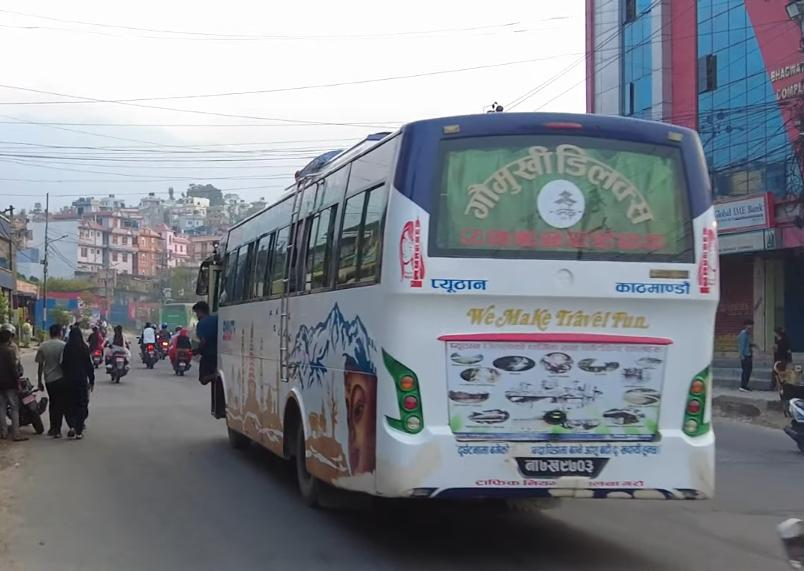bus: (200, 83, 761, 499)
